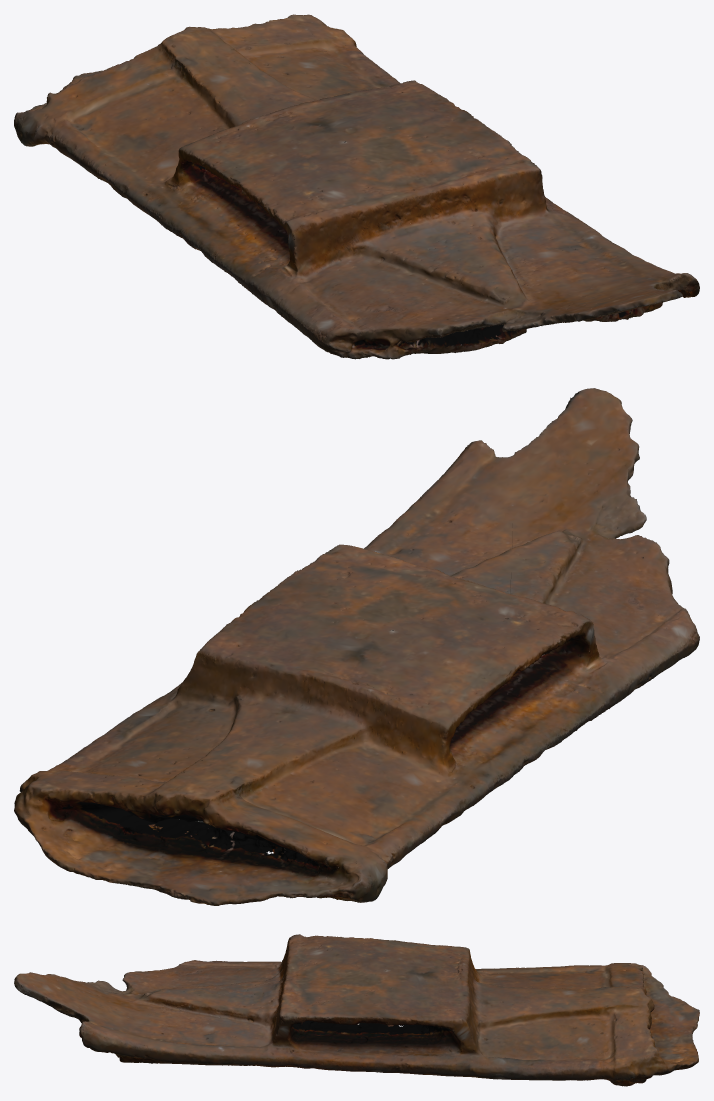
The picture shows the model from 3 angles, top to bottom: view 1: azimuth 30°, elevation 25°; view 2: azimuth 150°, elevation 25°; view 3: azimuth 270°, elevation 25°; orthographic projection. The views are drawn at different scales.
Visible parts, largest first — view 1: 2012_34_1770_2; view 2: 2012_34_1770_2; view 3: 2012_34_1770_2.
Boxes of the visible parts, x1,y1,x2,y2 form: 2012_34_1770_2: (14, 14, 699, 359); 2012_34_1770_2: (14, 388, 699, 905); 2012_34_1770_2: (14, 934, 699, 1086).
Bounding box in the file's own units: 58.12 × 20.09 × 146.
